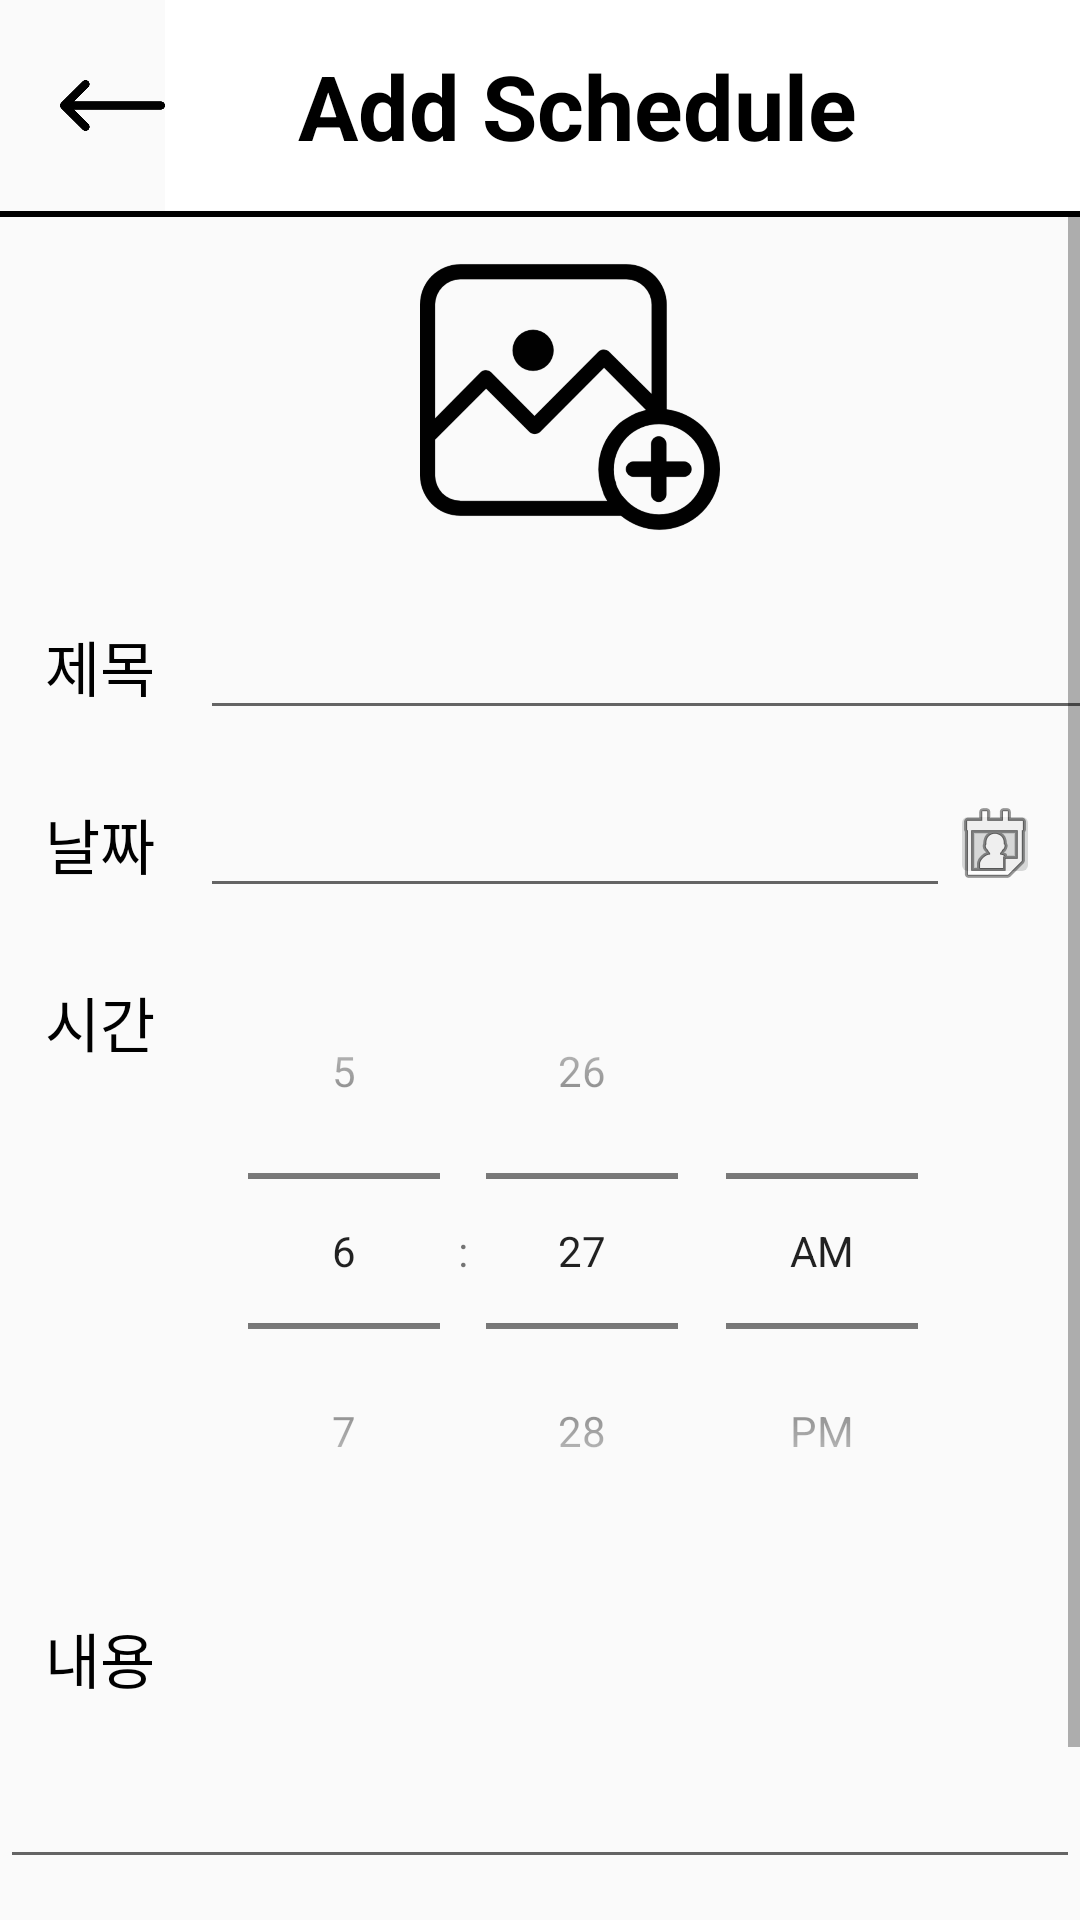

Icon click points for this 1080 x 1920 phone screenshot, format [x,y]:
back: [112,105]
calendar: [995,843]
